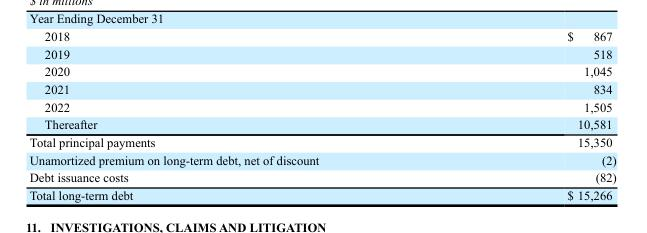table: (28, 28, 615, 201)
table column: (28, 28, 442, 201), (442, 28, 615, 201)
table row: (28, 44, 615, 62), (28, 79, 615, 97), (28, 97, 615, 115), (28, 132, 615, 150), (28, 150, 615, 168), (28, 62, 615, 79), (28, 115, 615, 132), (28, 168, 615, 185), (28, 28, 615, 44), (28, 185, 615, 201)
